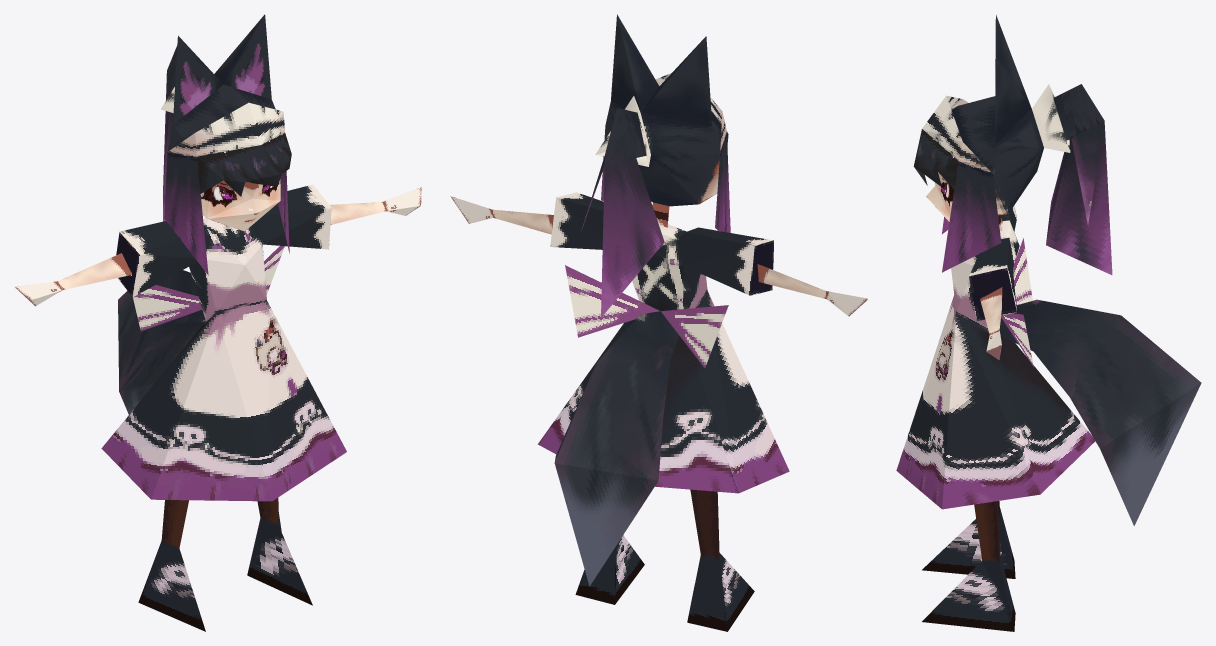
The model's file is Cassandra_256.glb.
The picture shows the model from 3 angles, left to right: view 1: azimuth 30°, elevation 25°; view 2: azimuth 150°, elevation 25°; view 3: azimuth 270°, elevation 25°; orthographic projection. The views are drawn at different scales.
Visible parts, largest first — view 1: Body; view 2: Body; view 3: Body.
Part boxes in pixels (left/top/right/bottom): Body: left=15, top=14, right=421, bottom=631; Body: left=450, top=14, right=867, bottom=631; Body: left=896, top=15, right=1201, bottom=631.
Bounding box in the file's own units: 3.81 × 5.07 × 2.5.
2 materials, 2 textured.
